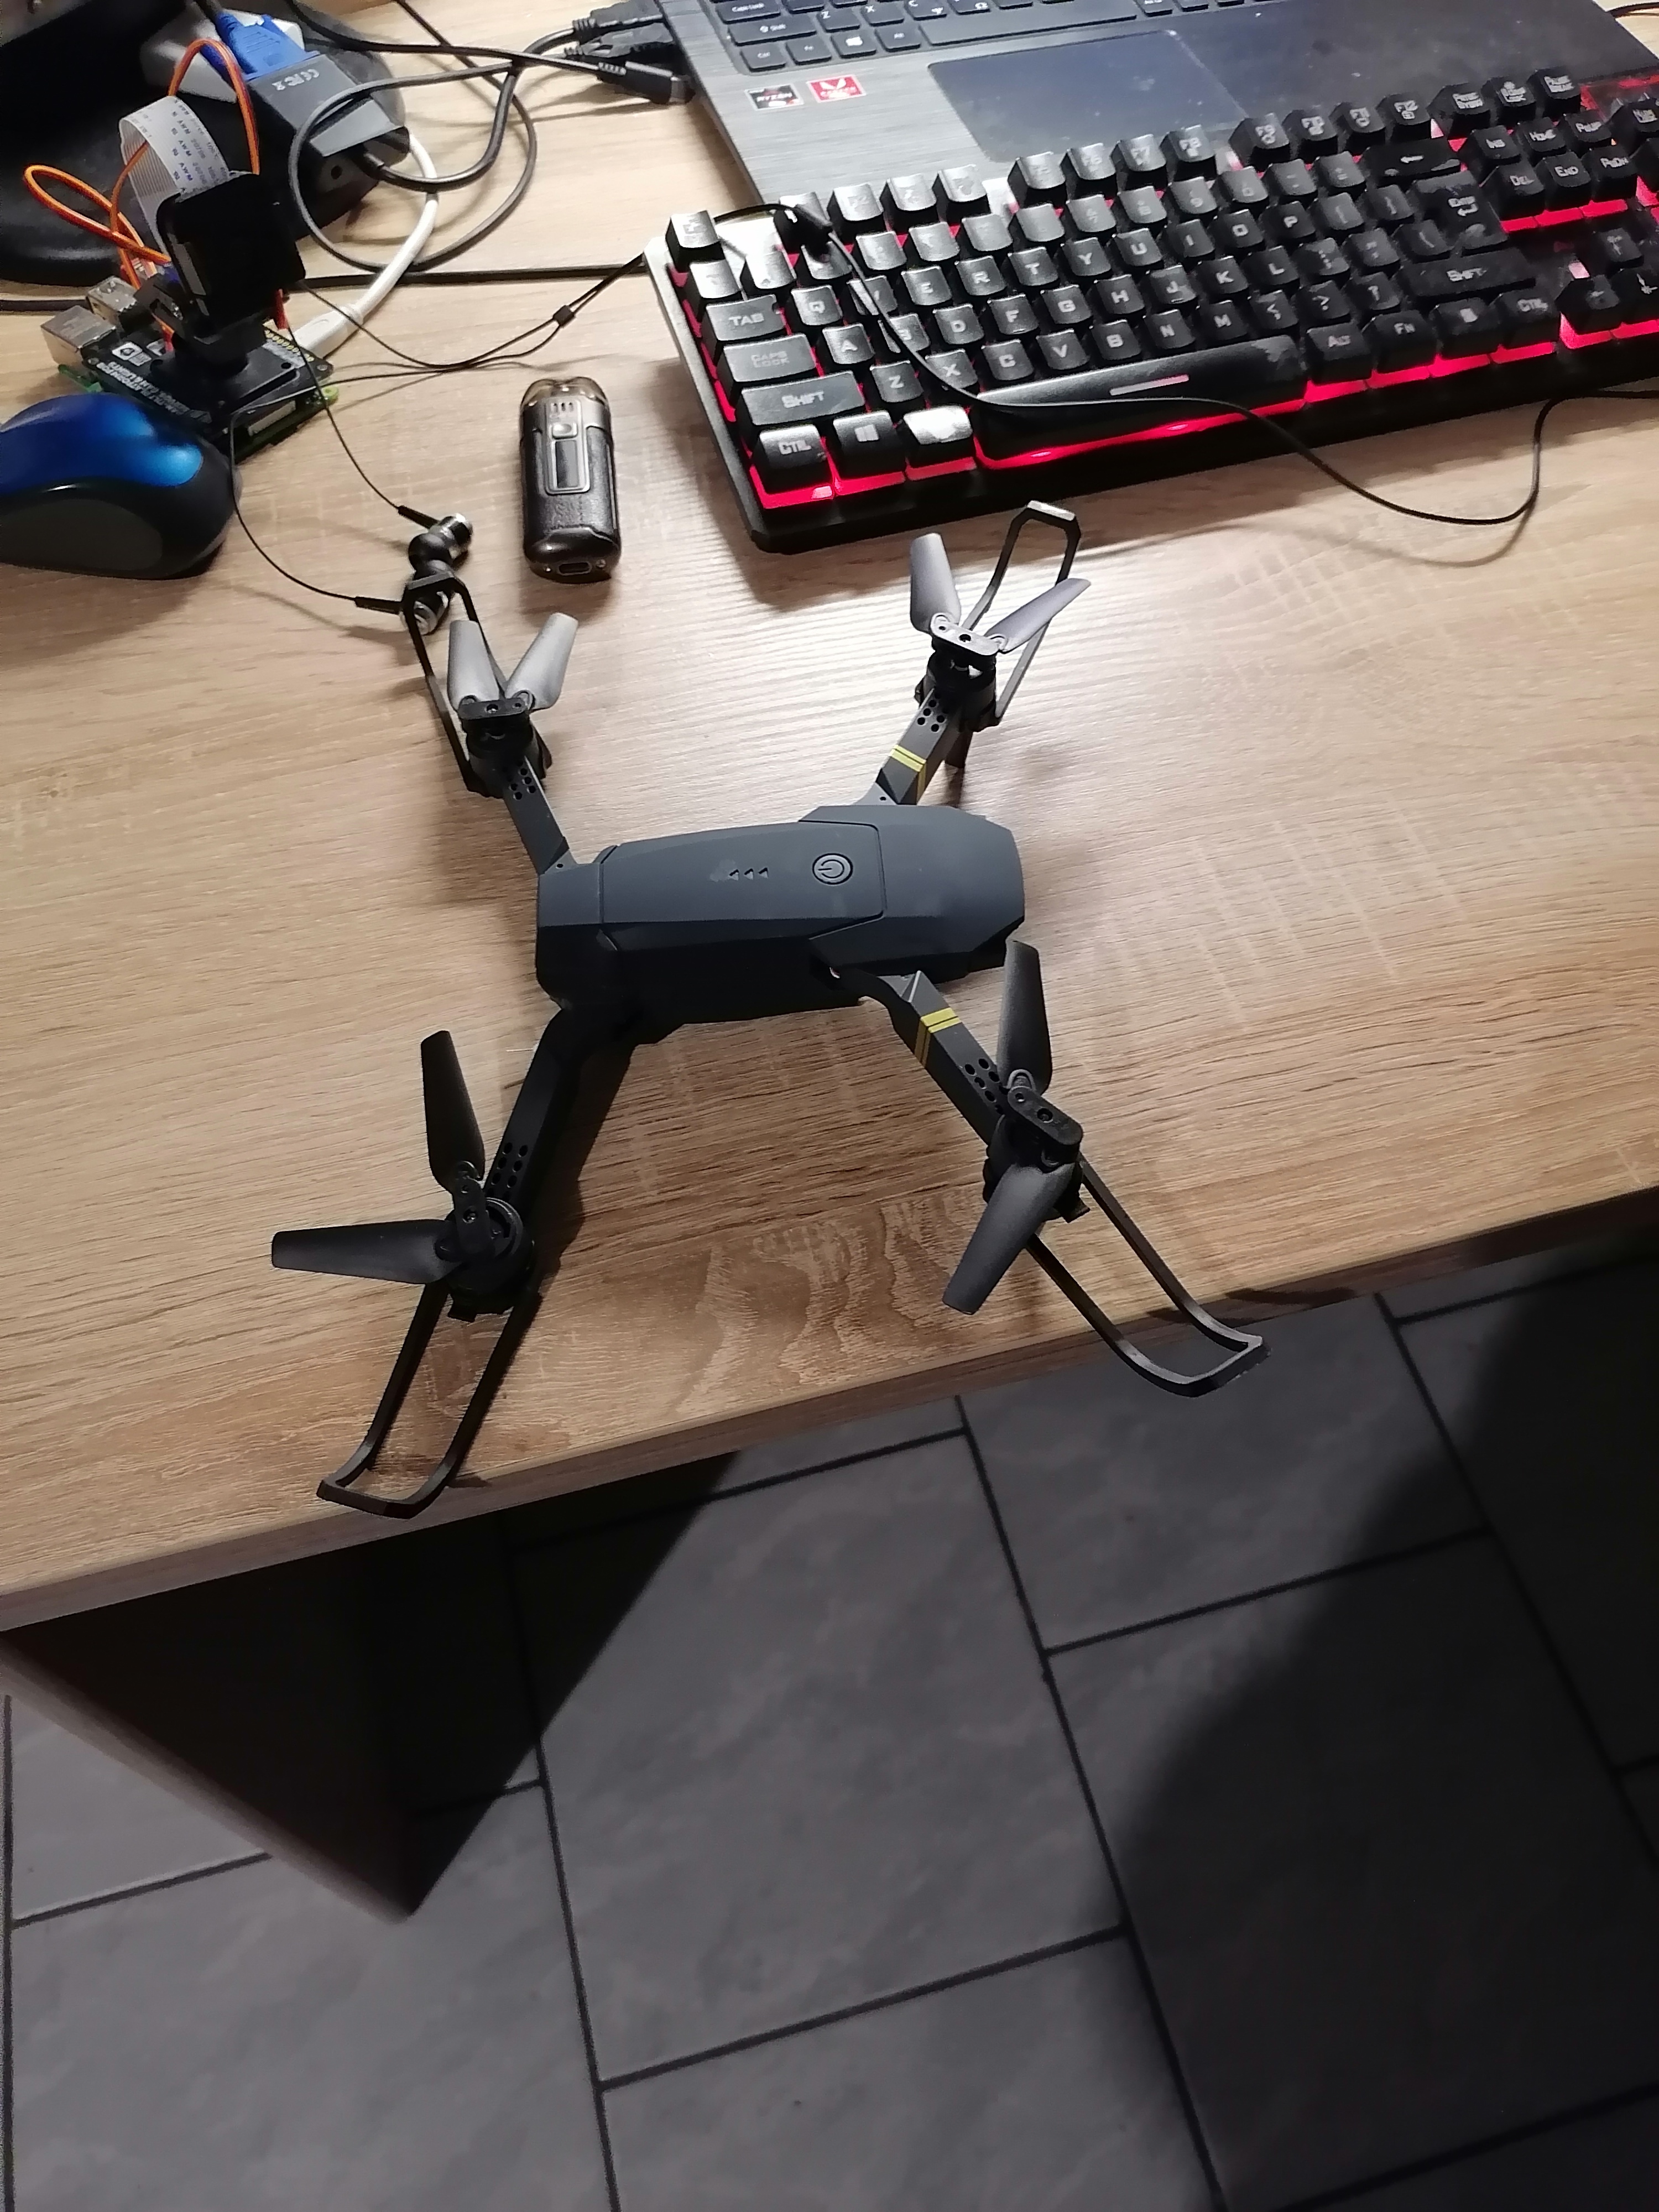drone: (227, 604, 1405, 1541)
